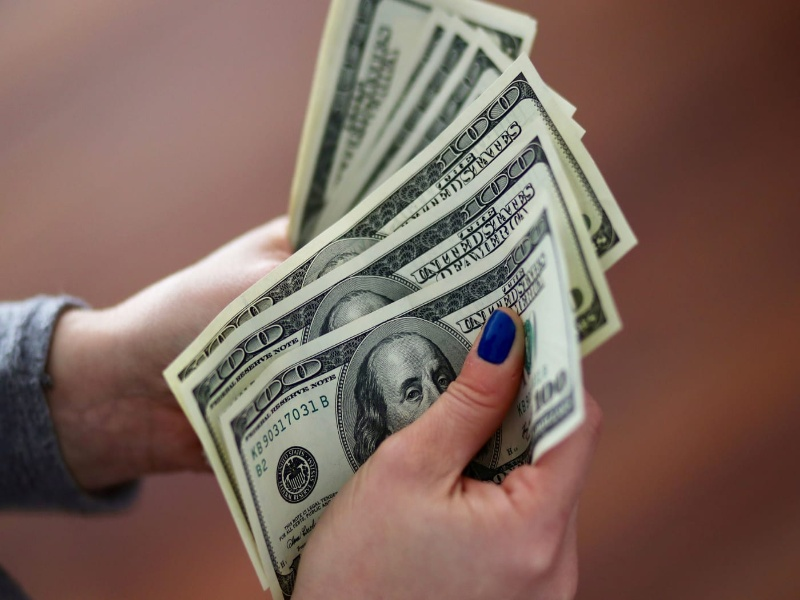cash: (162, 1, 637, 600)
